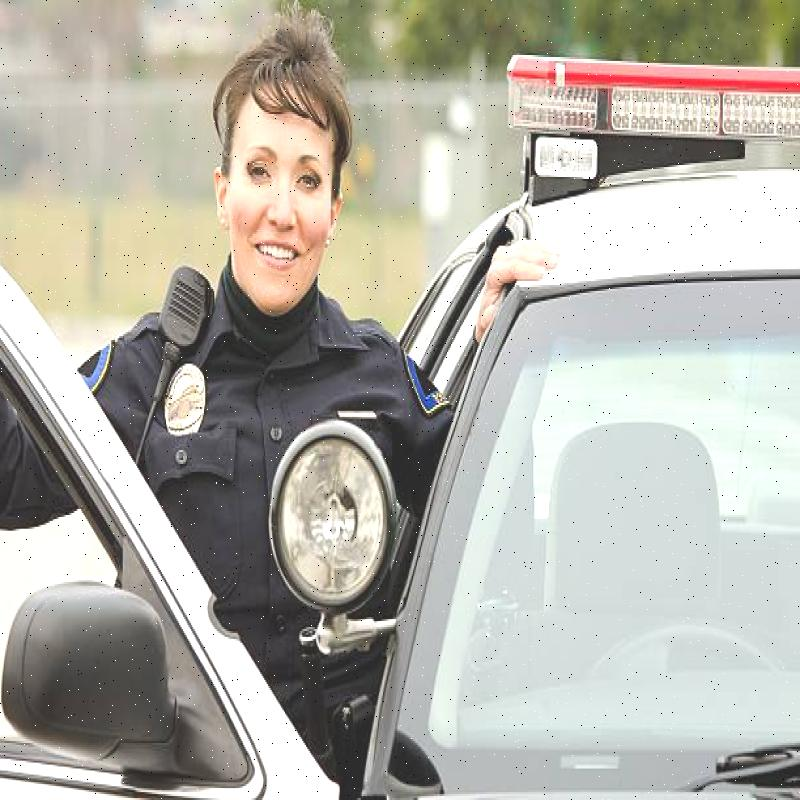AmbulanceSiren: (462, 42, 800, 202)
